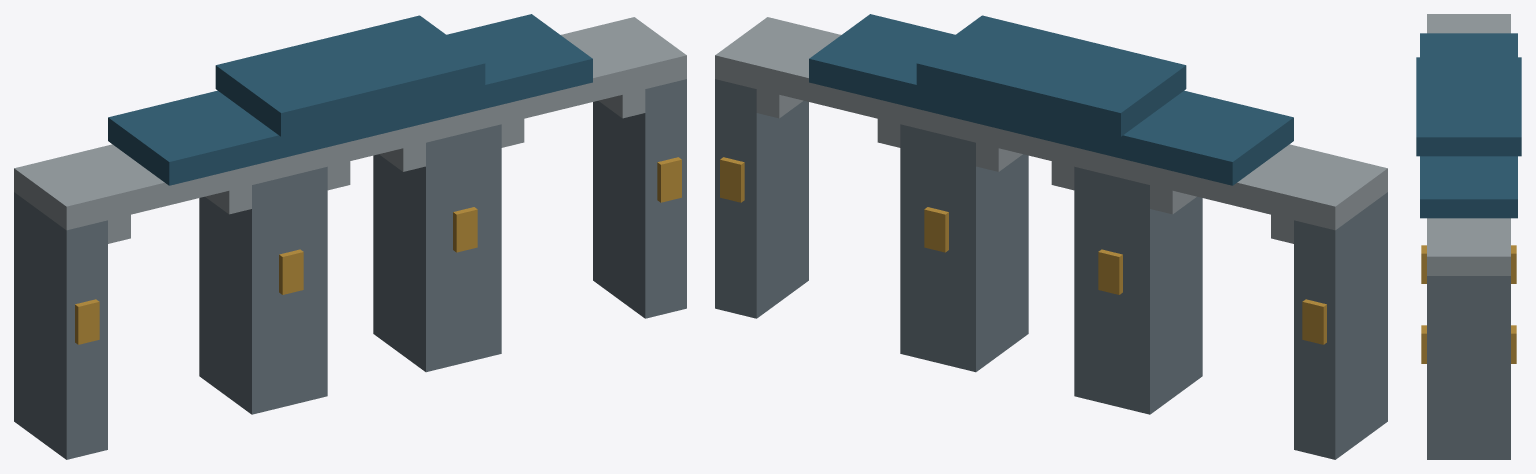
Rendered from Blockland_TripleArch_Standard.glb.
The picture shows the model from 3 angles, left to right: view 1: azimuth 30°, elevation 25°; view 2: azimuth 150°, elevation 25°; view 3: azimuth 270°, elevation 25°; orthographic projection. The views are drawn at different scales.
Parts seen in each view (by area): view 1: Blockland_TripleArch_Standard; view 2: Blockland_TripleArch_Standard; view 3: Blockland_TripleArch_Standard.
Part boxes in pixels (<box>): Blockland_TripleArch_Standard: <box>14,14,686,459</box>; Blockland_TripleArch_Standard: <box>715,14,1387,459</box>; Blockland_TripleArch_Standard: <box>1416,14,1521,459</box>.
Size of the model in its own units: 8.2 by 3.8 by 1.5.
